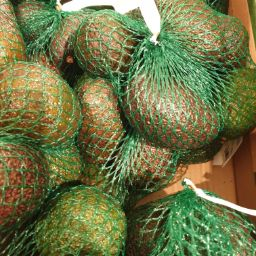Avocado: (97, 107, 256, 256), (81, 12, 256, 139), (2, 3, 130, 154), (2, 134, 131, 256)
